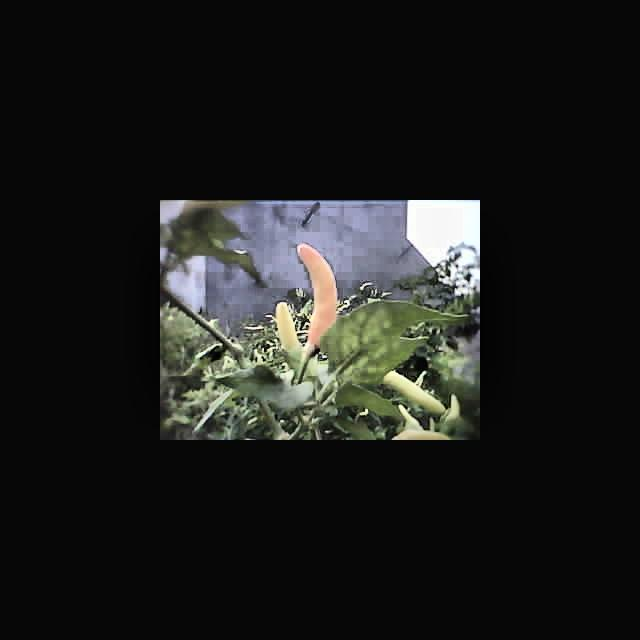Cabai: (298, 250, 345, 342)
